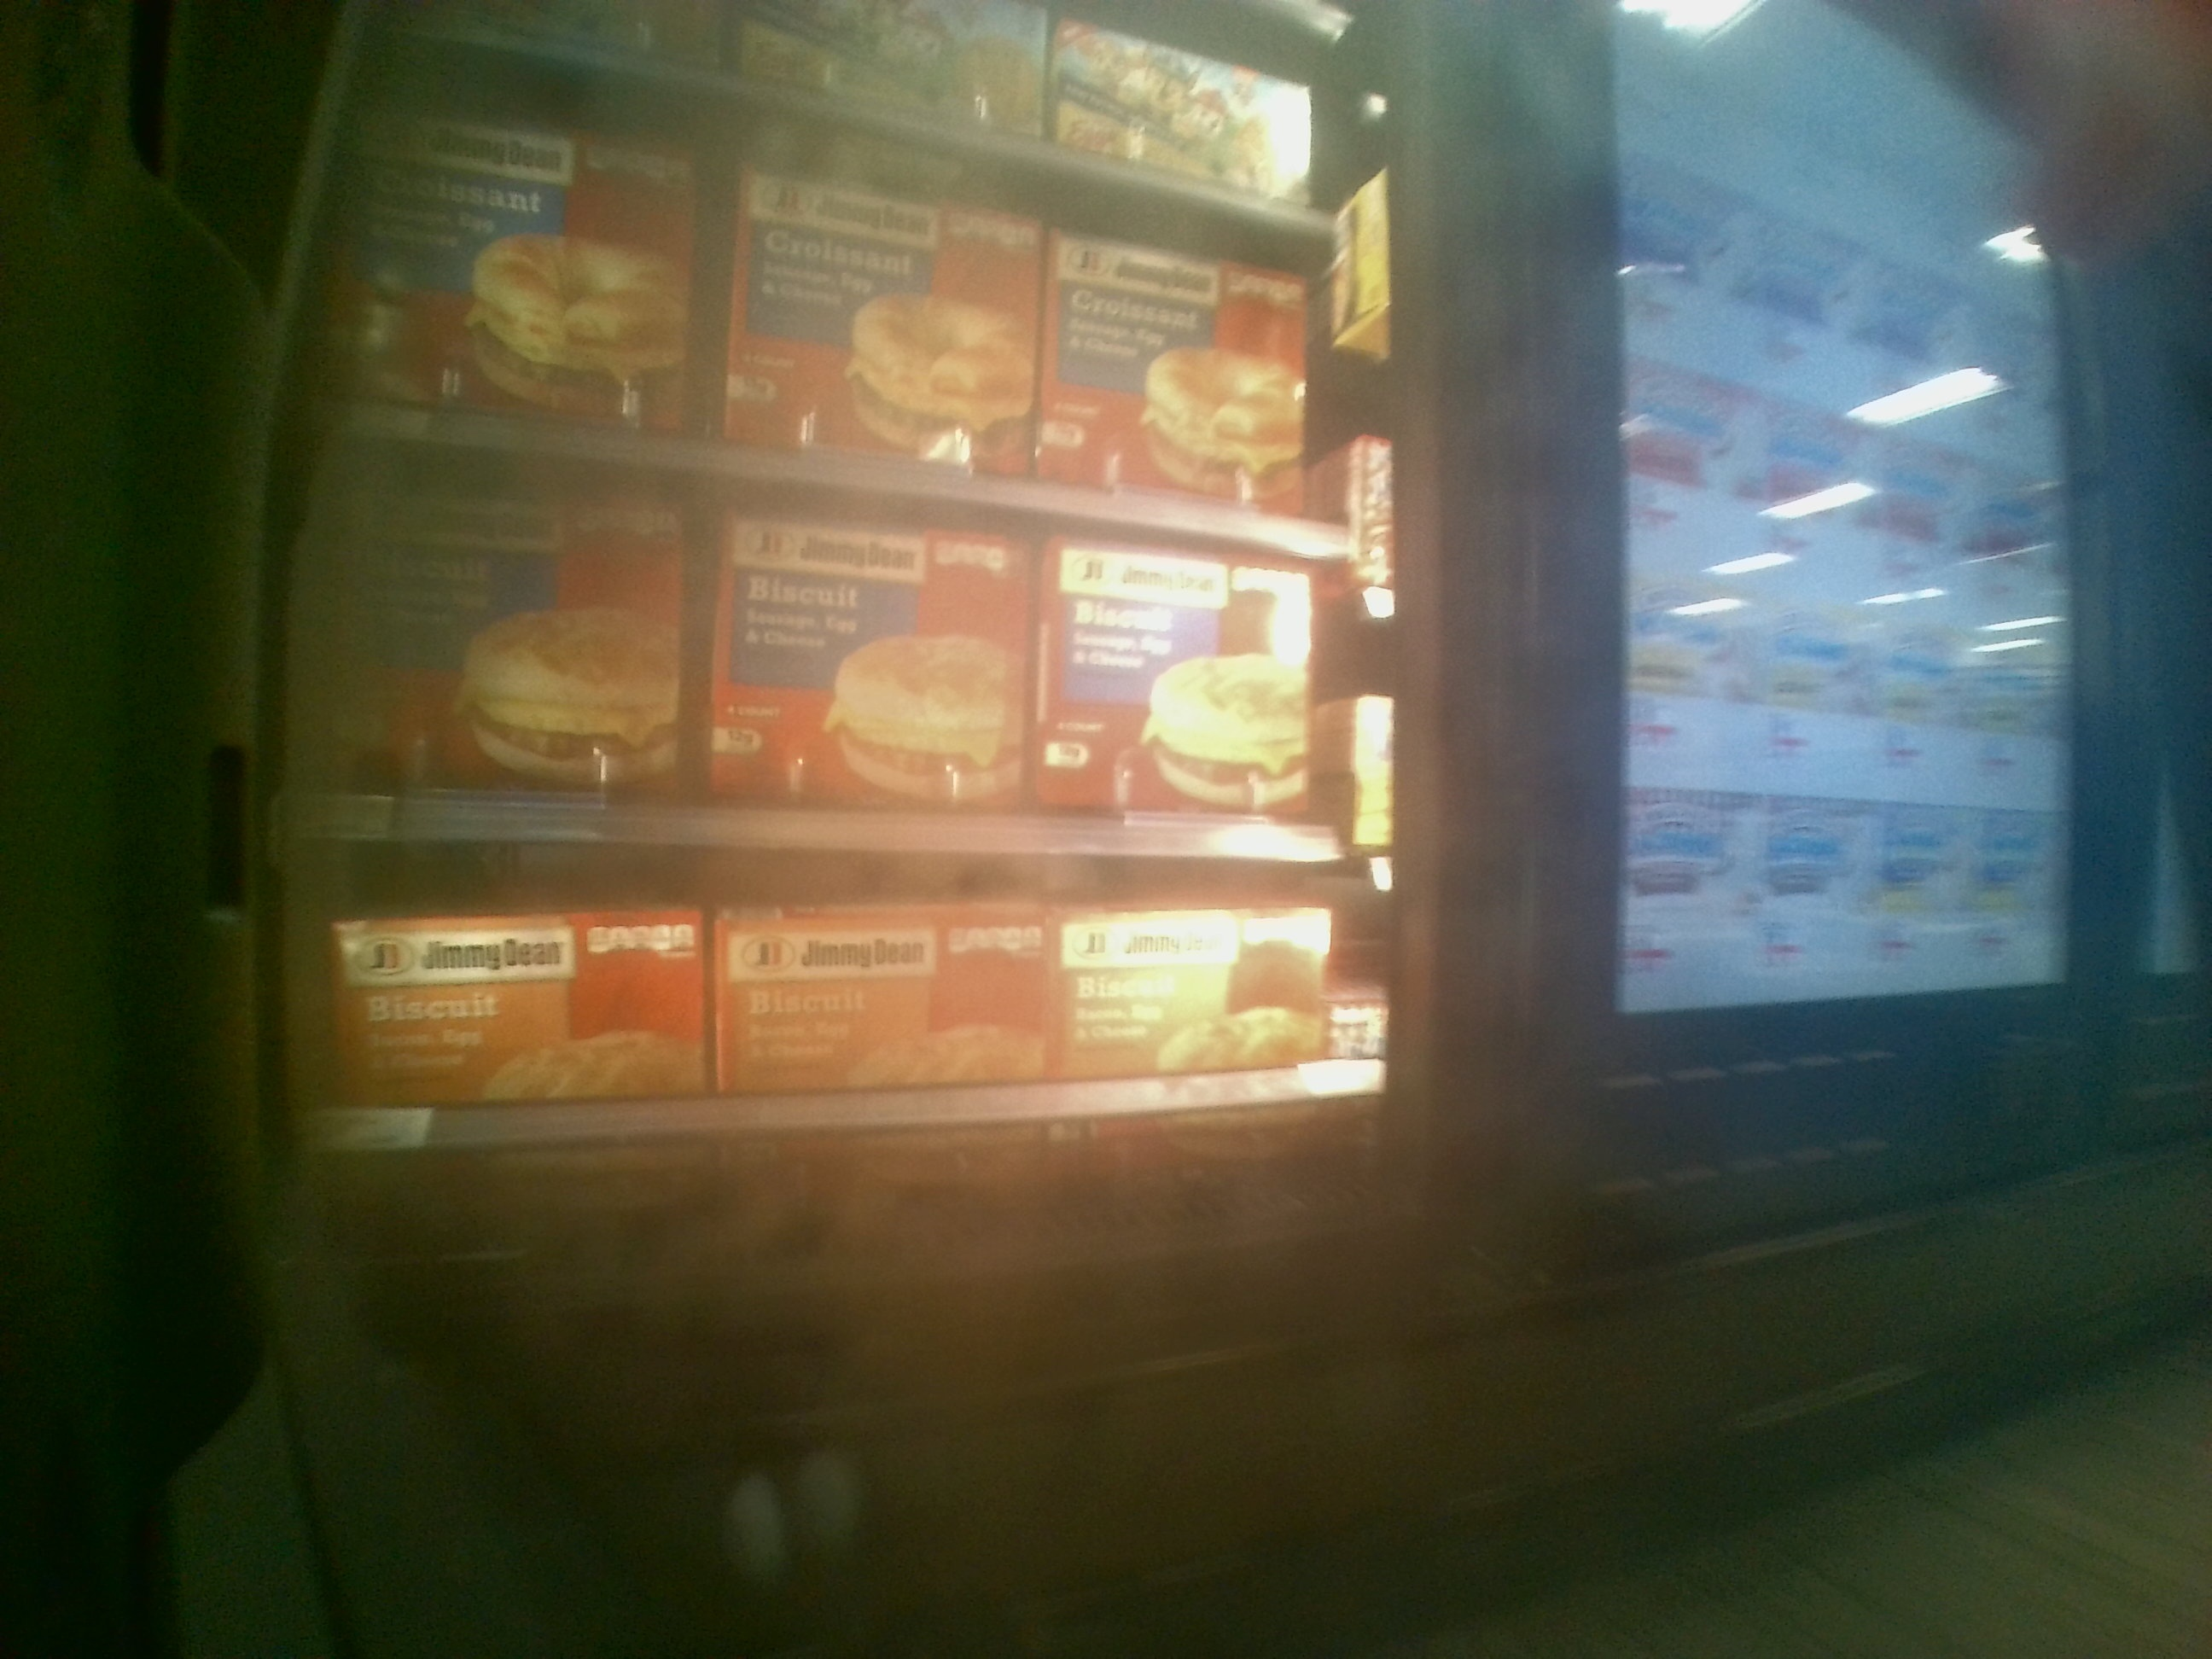shelf: (294, 441, 1395, 854), (280, 833, 1407, 1234)
